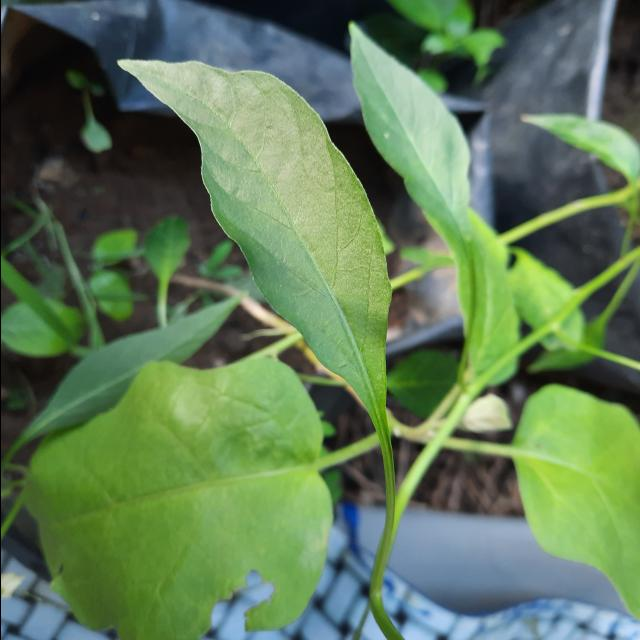sehat: (116, 24, 396, 418), (330, 4, 476, 278)
